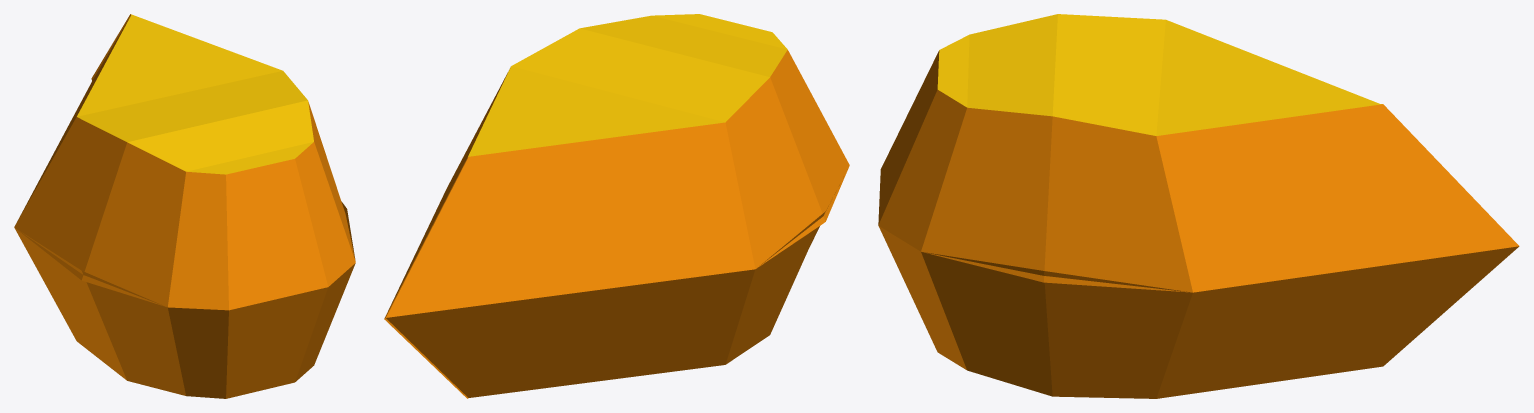
The model's file is Flame.fbx.
3 renders of one model, left to right at view 1: azimuth 30°, elevation 25°; view 2: azimuth 150°, elevation 25°; view 3: azimuth 270°, elevation 25°, orthographic. The views are drawn at different scales.
Visible parts, largest first — view 1: Flame; view 2: Flame; view 3: Flame.
Part boxes in pixels (box(x1,y1,x2,y2)): Flame: box(14, 14, 355, 398); Flame: box(384, 14, 849, 398); Flame: box(878, 14, 1519, 398).
Bounding box in the file's own units: 0.2016 × 0.1578 × 0.3272.
1 material, 1 textured.
